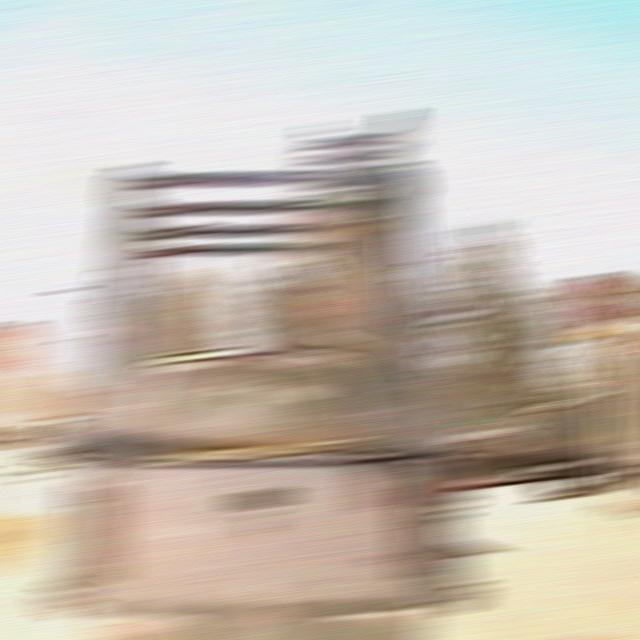stop: (568, 274, 622, 324)
